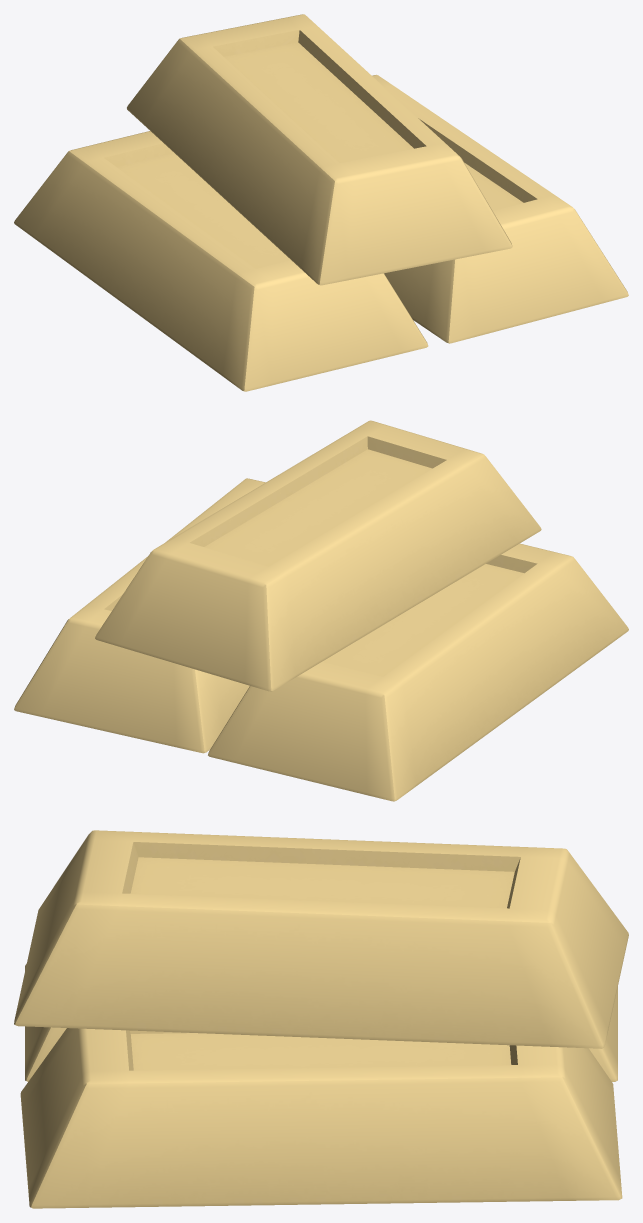
The model's file is ignot.fbx.
The picture shows the model from 3 angles, top to bottom: view 1: azimuth 30°, elevation 25°; view 2: azimuth 150°, elevation 25°; view 3: azimuth 270°, elevation 25°; orthographic projection. The views are drawn at different scales.
Visible parts, largest first — view 1: Cube.002, Cube, Cube.001; view 2: Cube.002, Cube, Cube.001; view 3: Cube.002, Cube.001, Cube.
Part boxes in pixels (x1,y1,x2,y2): Cube.002: (127, 14, 512, 285); Cube: (14, 131, 428, 391); Cube.001: (372, 74, 628, 343); Cube.002: (95, 420, 541, 691); Cube: (208, 543, 628, 801); Cube.001: (14, 478, 265, 753); Cube.002: (14, 830, 628, 1048); Cube.001: (20, 1028, 622, 1208); Cube: (25, 964, 617, 1081).
Bounding box in the file's own units: 288 × 117 × 309.
